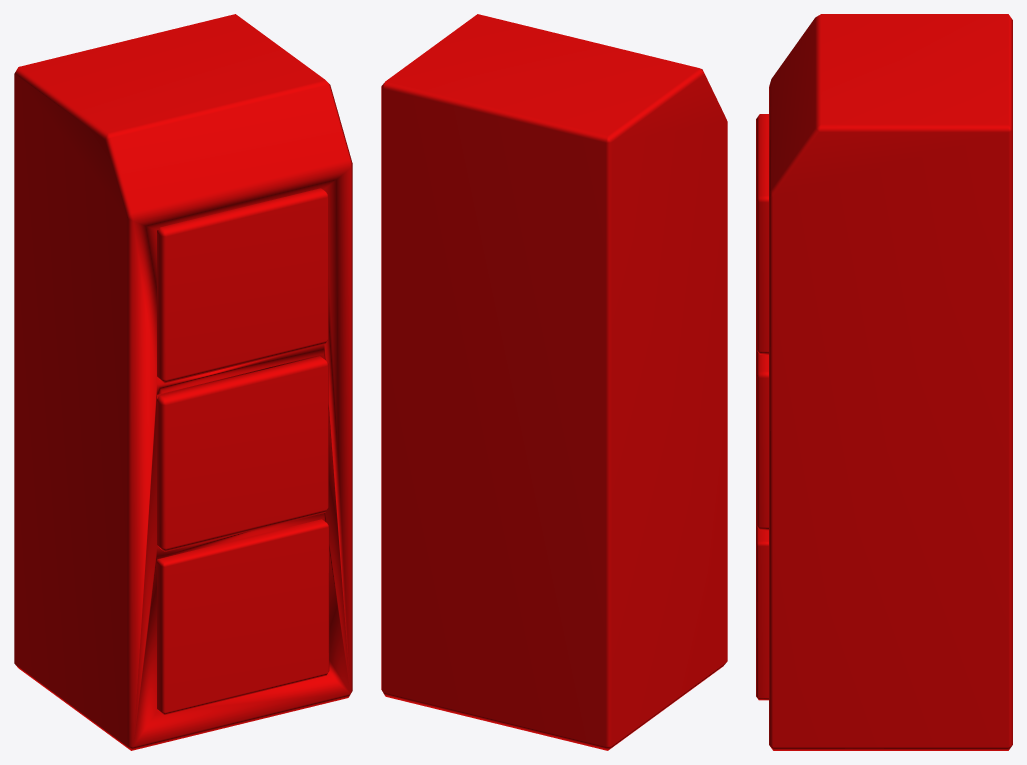
Rendered from Contener_Big_01.fbx.
3 renders of one model, left to right at view 1: azimuth 30°, elevation 25°; view 2: azimuth 150°, elevation 25°; view 3: azimuth 270°, elevation 25°, orthographic. The views are drawn at different scales.
Parts seen in each view (by area): view 1: Contener_Big_01; view 2: Contener_Big_01; view 3: Contener_Big_01.
Boxes of the visible parts, x1=… form: Contener_Big_01: x1=14, y1=14, x2=352, y2=750; Contener_Big_01: x1=381, y1=14, x2=727, y2=750; Contener_Big_01: x1=756, y1=14, x2=1012, y2=750.
Bounding box in the file's own units: 1.43 × 3.64 × 1.35.
